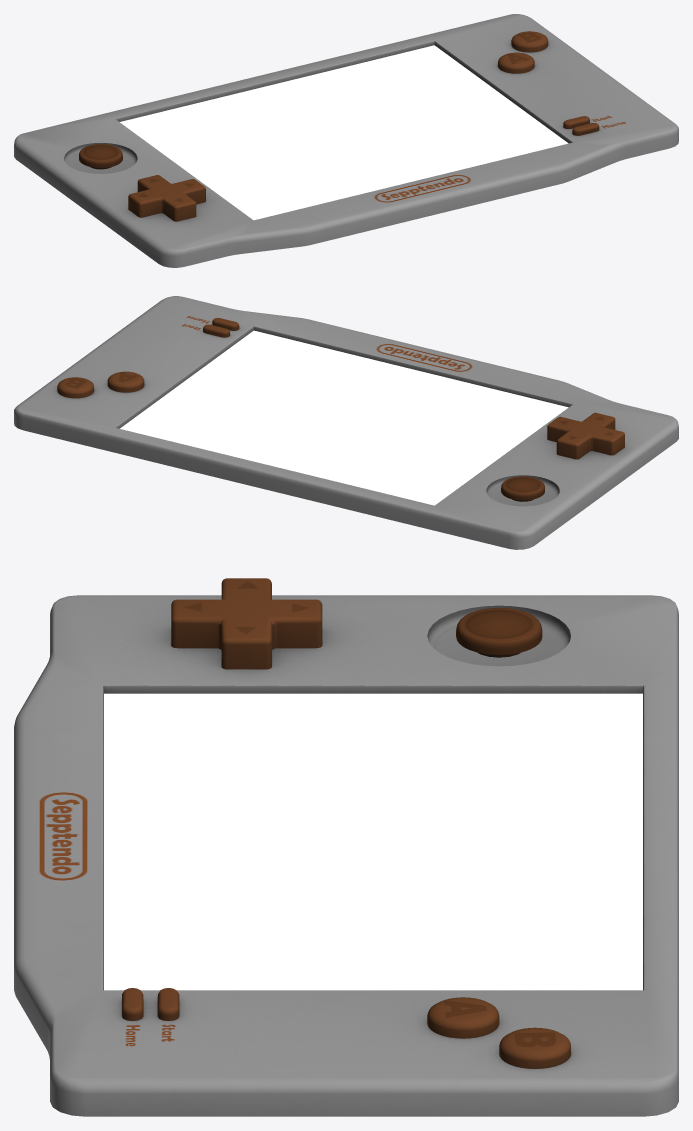
The model's file is Console.gltf.
3 renders of one model, top to bottom at view 1: azimuth 30°, elevation 25°; view 2: azimuth 150°, elevation 25°; view 3: azimuth 270°, elevation 25°, orthographic. The views are drawn at different scales.
Visible parts, largest first — view 1: Console, Console_Screen, D-Pad, Joystick, Button_B, Button_A; view 2: Console, Console_Screen, D-Pad, Joystick, Button_A, Button_B; view 3: Console, Console_Screen, D-Pad, Joystick, Button_A, Button_B.
Part boxes in pixels (x1=…): Console: x1=14, y1=14, x2=678, y2=267; Console_Screen: x1=119, y1=45, x2=568, y2=220; D-Pad: x1=128, y1=175, x2=205, y2=221; Joystick: x1=79, y1=144, x2=122, y2=169; Button_B: x1=511, y1=31, x2=548, y2=52; Button_A: x1=498, y1=52, x2=534, y2=73; Console: x1=14, y1=296, x2=678, y2=549; Console_Screen: x1=120, y1=330, x2=568, y2=505; D-Pad: x1=547, y1=412, x2=624, y2=459; Joystick: x1=501, y1=476, x2=544, y2=501; Button_A: x1=107, y1=371, x2=144, y2=392; Button_B: x1=57, y1=377, x2=93, y2=398; Console: x1=14, y1=595, x2=678, y2=1116; Console_Screen: x1=104, y1=693, x2=642, y2=990; D-Pad: x1=171, y1=578, x2=322, y2=669; Joystick: x1=456, y1=608, x2=542, y2=657; Button_A: x1=427, y1=997, x2=499, y2=1038; Button_B: x1=499, y1=1027, x2=570, y2=1068.
Bounding box in the file's own units: 3.25 × 0.19 × 1.85.
2 materials, 1 textured.
